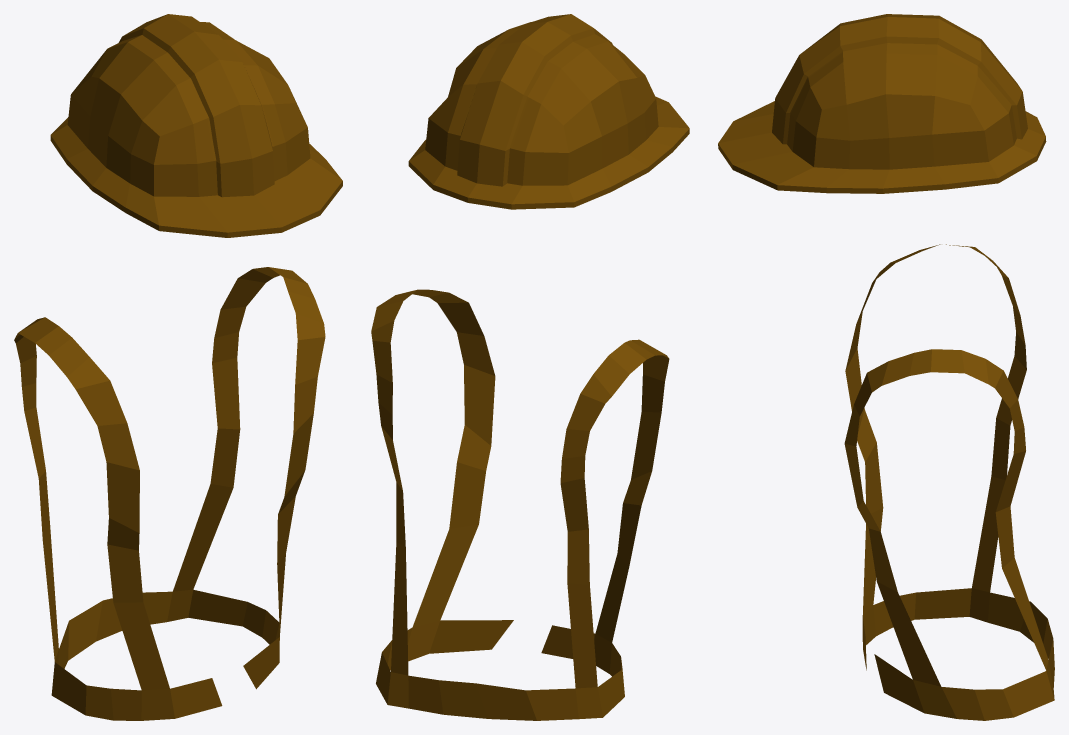
The model's file is Worker_Yellow.obj.
3 views of the same model, side by side, from view 1: azimuth 30°, elevation 25°; view 2: azimuth 150°, elevation 25°; view 3: azimuth 270°, elevation 25° (orthographic). The views are drawn at different scales.
Bounding box in the file's own units: 0.3053 × 0.7274 × 0.3424.
